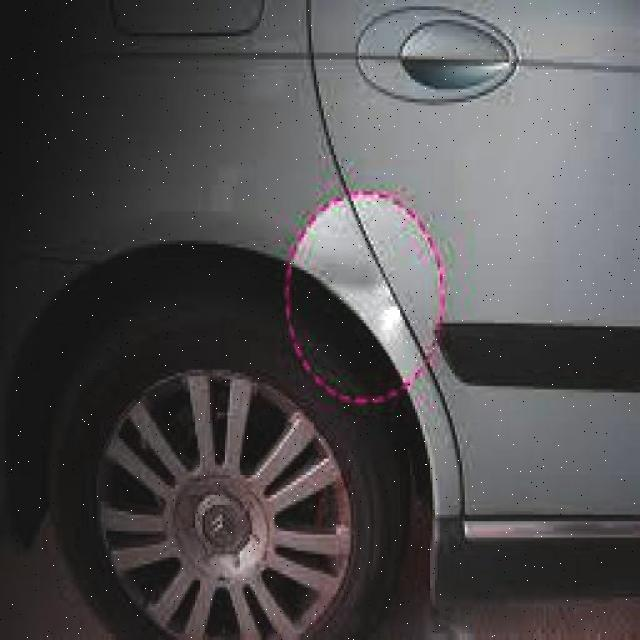car damage: (298, 189, 456, 380)
